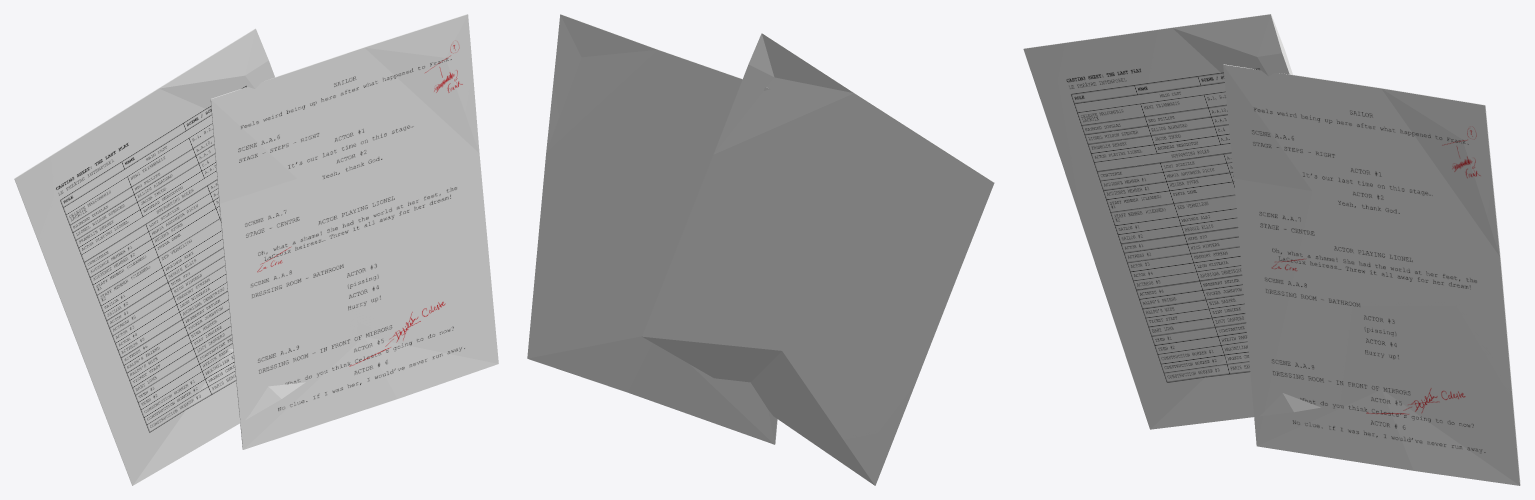
The model's file is paper_left.glb.
3 renders of one model, left to right at view 1: azimuth 30°, elevation 25°; view 2: azimuth 150°, elevation 25°; view 3: azimuth 330°, elevation 25°, orthographic. The views are drawn at different scales.
Visible parts, largest first — view 1: script, casting_sheet; view 2: casting_sheet, script; view 3: script, casting_sheet.
Boxes of the visible parts, bbox=[...] form: script: bbox=[210, 14, 498, 449]; casting_sheet: bbox=[14, 28, 305, 485]; casting_sheet: bbox=[642, 33, 994, 485]; script: bbox=[527, 14, 777, 444]; script: bbox=[1223, 64, 1520, 485]; casting_sheet: bbox=[1023, 14, 1320, 429].
Bounding box in the file's own units: 0.4782 × 0.4095 × 0.0127.
Materials: 3 (2 with a texture image).
